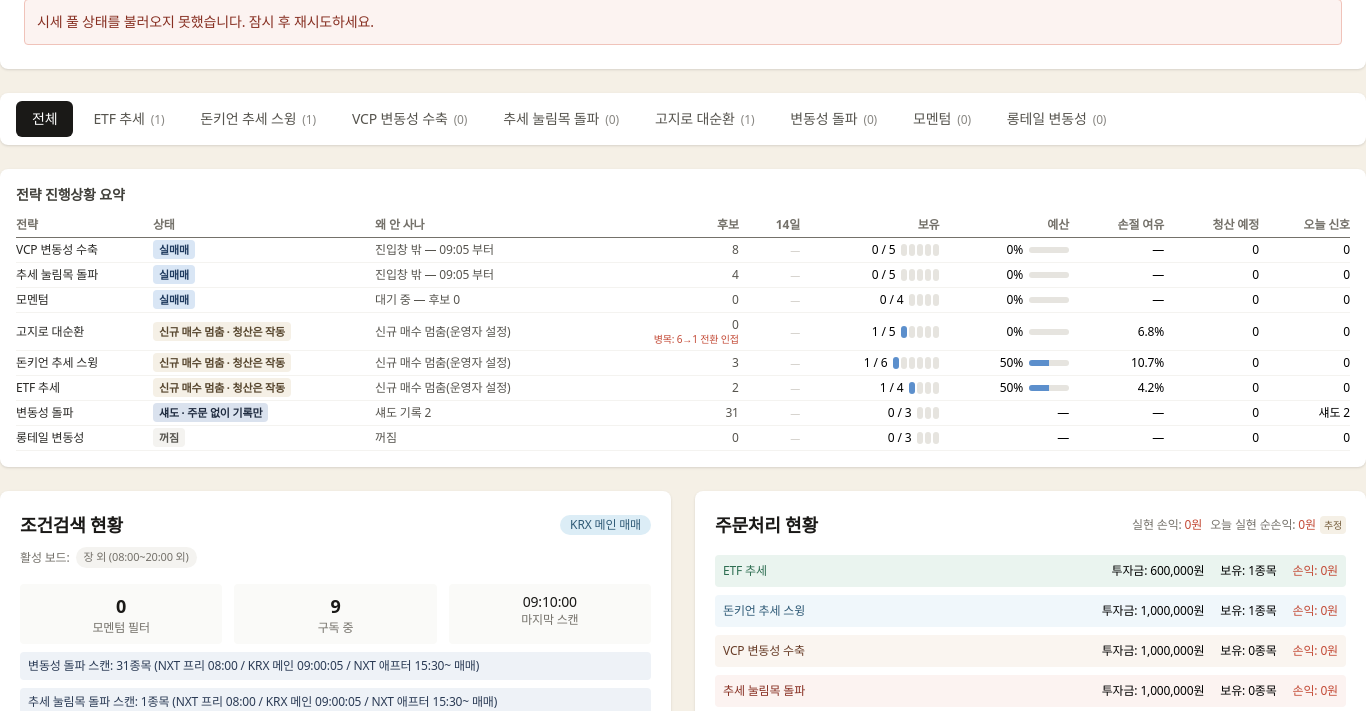
Test: Dashboard — 전략 진행상황(cycle414) › 요약표 행을 누르면 그 전략 탭으로 간다
This screenshot has width=1366, height=711.
(page scrolled)
Click the row with test id "strategy-summary-row-donchian_swing" at (683, 363), box [16,351,1350,376]
(page scrolled)
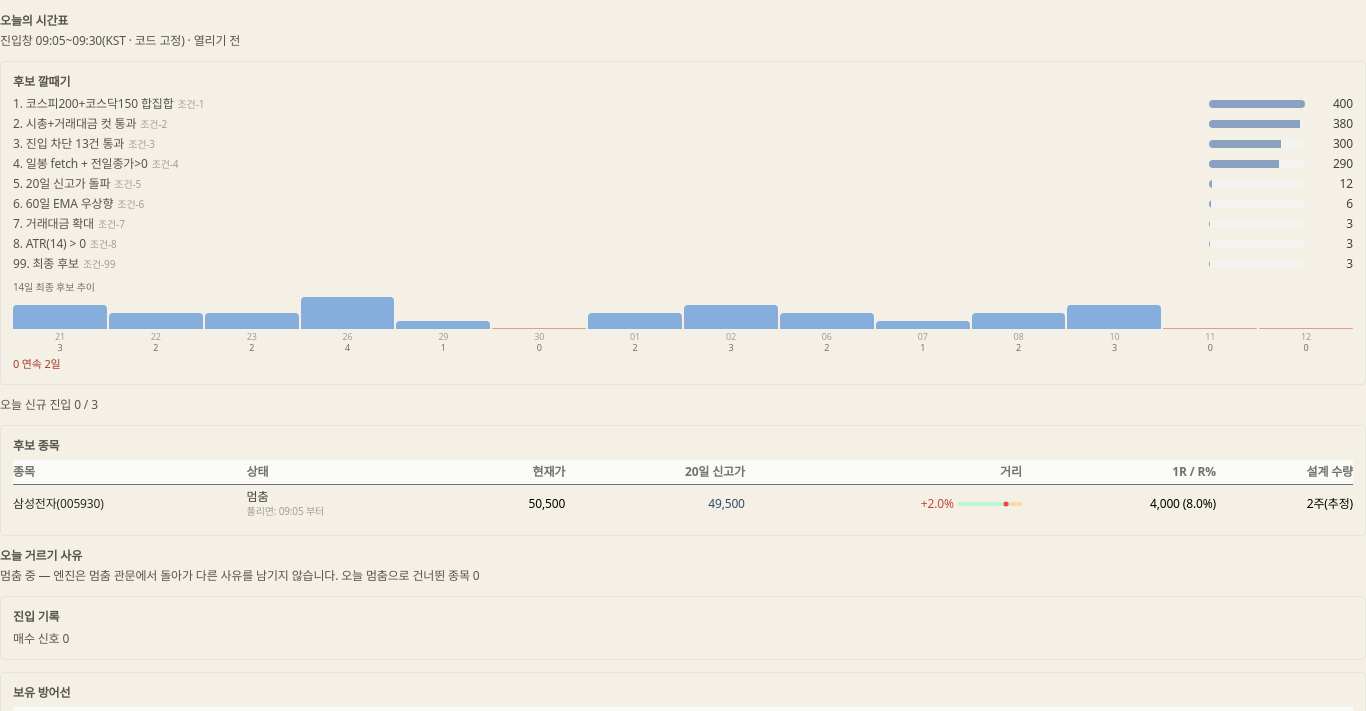
Result: the element with test id "strategy-summary-table" is gone
